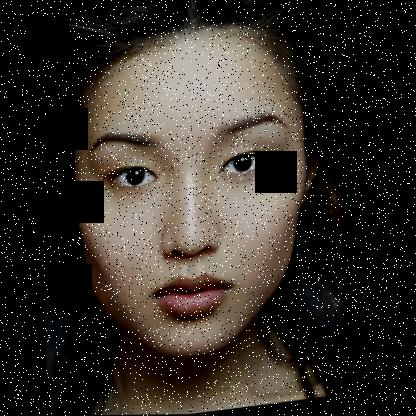Female: (43, 16, 355, 371)
